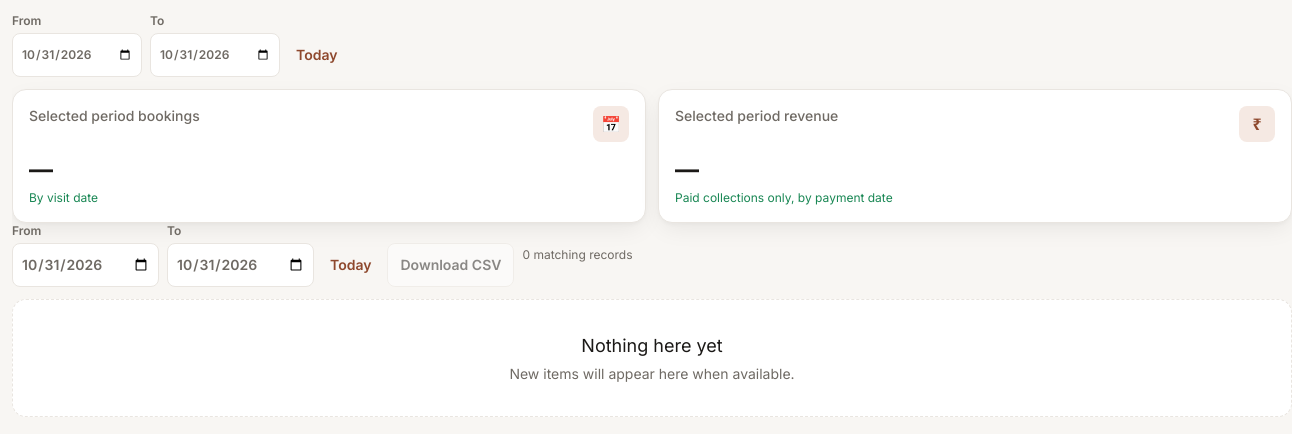
keeps dashboard summary and record date controls synchronized
Type "2025-01-01" into the date field named "Records start date" at {"x": 86, "y": 265}, box [12, 243, 159, 287]
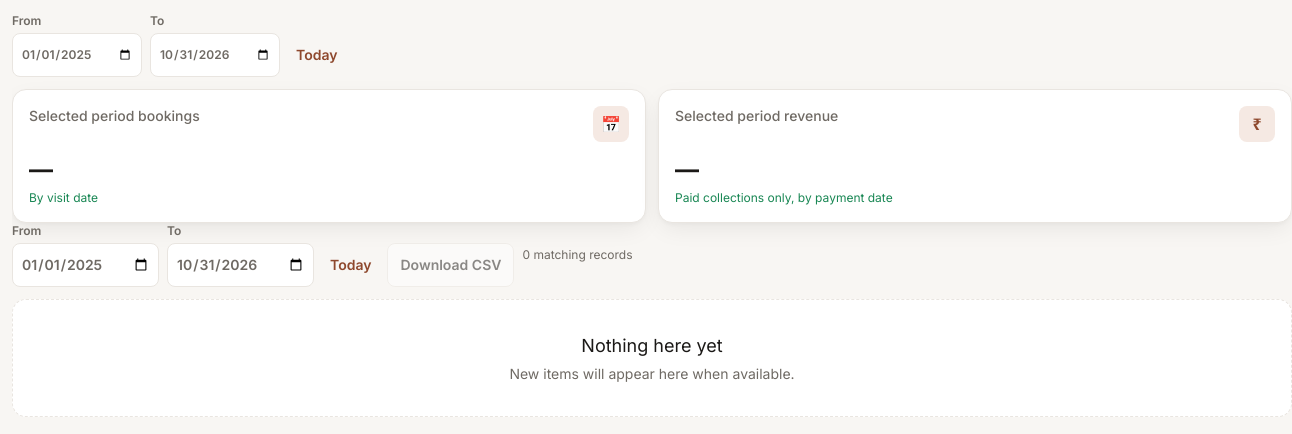
Now the date field named "Summary start date" holds "2025-01-01", box [12, 33, 142, 77]
Type "2025-01-02" into the date field named "Summary end date" at {"x": 215, "y": 55}, box [150, 33, 280, 77]
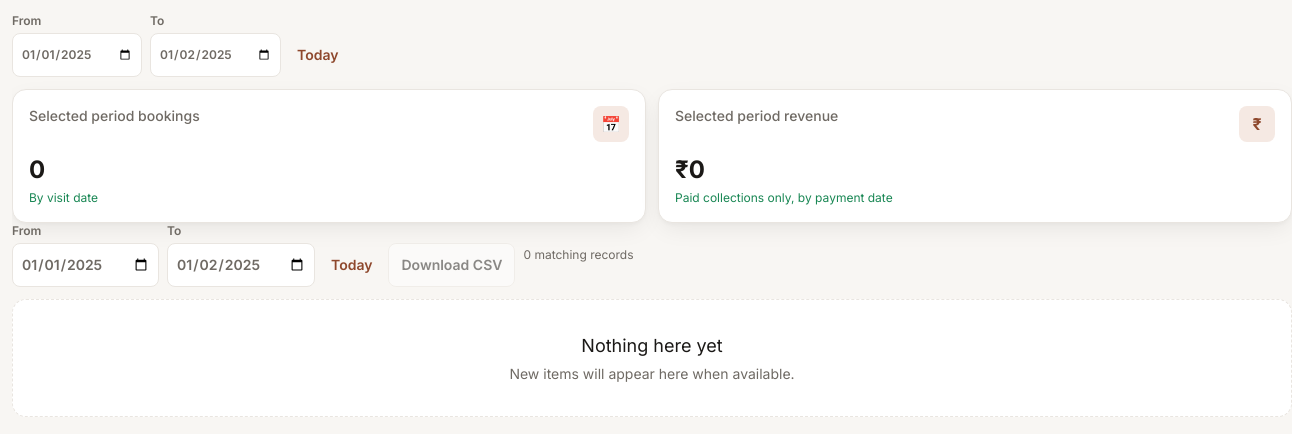
Now the date field named "Records end date" holds "2025-01-02", box [167, 243, 315, 287]
